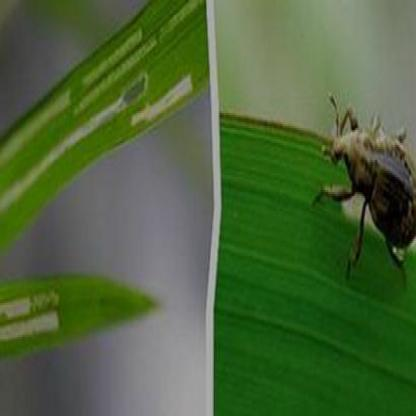rice-bug: (322, 102, 413, 270)
